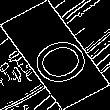O_NE: (16, 23, 94, 87)
